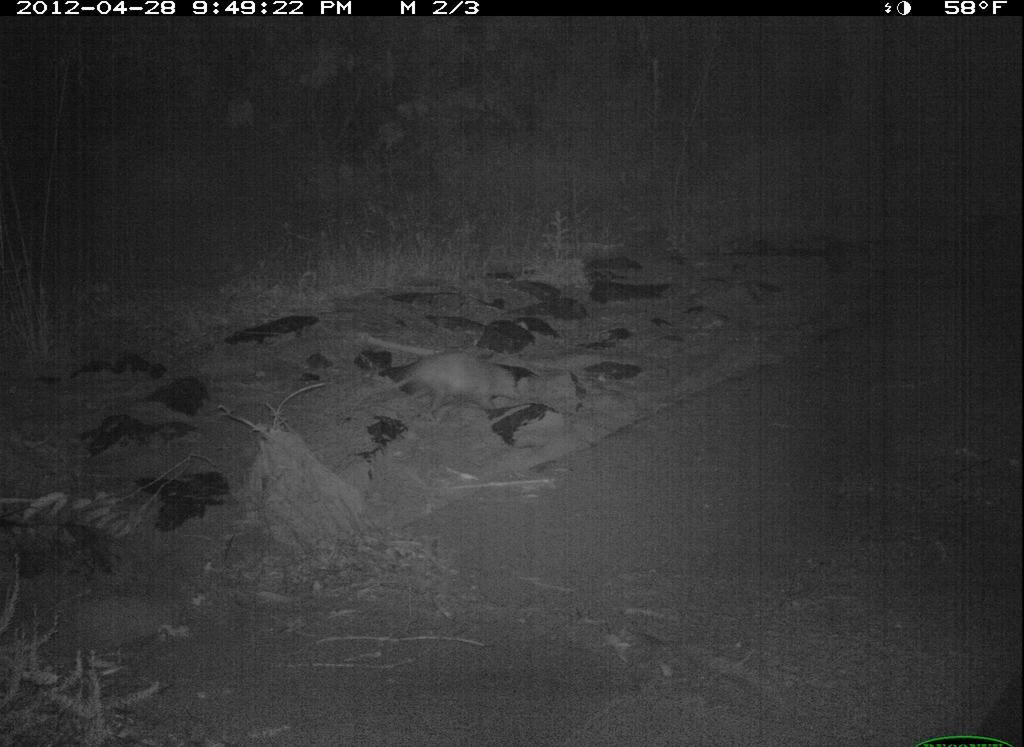opossum: (364, 347, 524, 419)
